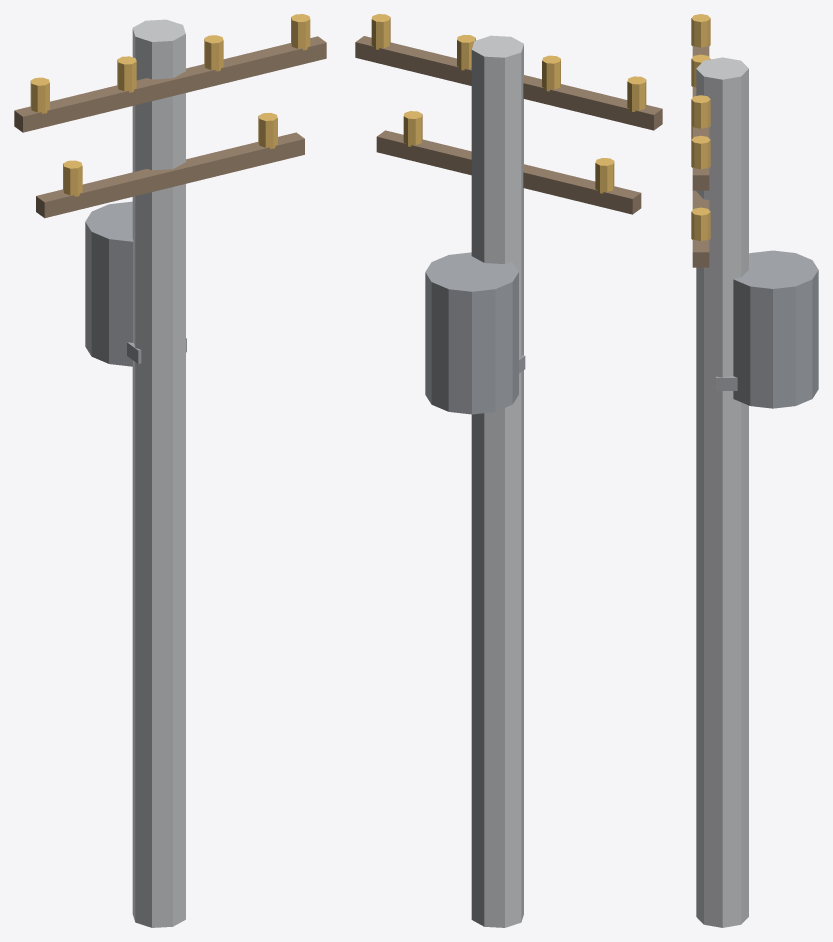
File: prop_utility_pole.glb
The picture shows the model from 3 angles, left to right: view 1: azimuth 30°, elevation 25°; view 2: azimuth 150°, elevation 25°; view 3: azimuth 270°, elevation 25°; orthographic projection. The views are drawn at different scales.
Visible parts, largest first — view 1: Pole_Shaft, Transformer_Drum, Crossarm_Top, Crossarm_Mid, Insulator_Mid, Insulator_Top, Insulator_Top.002, Insulator_Top.001, Insulator_Top.003, Insulator_Mid.001; view 2: Pole_Shaft, Transformer_Drum, Crossarm_Top, Crossarm_Mid, Insulator_Mid.001, Insulator_Top, Insulator_Top.003, Insulator_Mid, Insulator_Top.001; view 3: Pole_Shaft, Transformer_Drum, Crossarm_Top, Crossarm_Mid, Insulator_Mid.001, Insulator_Top.003, Insulator_Top.002, Insulator_Top, Transformer_Bracket.
Part boxes in pixels (x1,y1,x2,y2): Pole_Shaft: (132, 19, 185, 927); Transformer_Drum: (85, 201, 133, 366); Crossarm_Top: (14, 36, 326, 132); Crossarm_Mid: (36, 132, 304, 218); Insulator_Mid: (63, 160, 82, 196); Insulator_Top: (30, 77, 49, 113); Insulator_Top.002: (204, 35, 223, 71); Insulator_Top.001: (117, 56, 136, 92); Insulator_Top.003: (291, 14, 310, 50); Insulator_Mid.001: (258, 112, 277, 148); Pole_Shaft: (471, 35, 523, 927); Transformer_Drum: (425, 252, 518, 414); Crossarm_Top: (355, 36, 662, 130); Crossarm_Mid: (376, 130, 641, 214); Insulator_Mid.001: (403, 111, 422, 146); Insulator_Top: (627, 76, 646, 111); Insulator_Top.003: (371, 14, 390, 49); Insulator_Mid: (595, 158, 614, 193); Insulator_Top.001: (542, 55, 560, 91); Pole_Shaft: (696, 57, 748, 927); Transformer_Drum: (733, 250, 818, 408); Crossarm_Top: (692, 45, 709, 190); Crossarm_Mid: (692, 190, 709, 267); Insulator_Mid.001: (691, 207, 710, 240); Insulator_Top.003: (691, 135, 710, 169); Insulator_Top.002: (691, 95, 710, 128); Insulator_Top: (691, 14, 710, 47); Transformer_Bracket: (716, 376, 737, 390).
Bounding box in the file's own units: 2.8 × 7.8 × 1.06.
